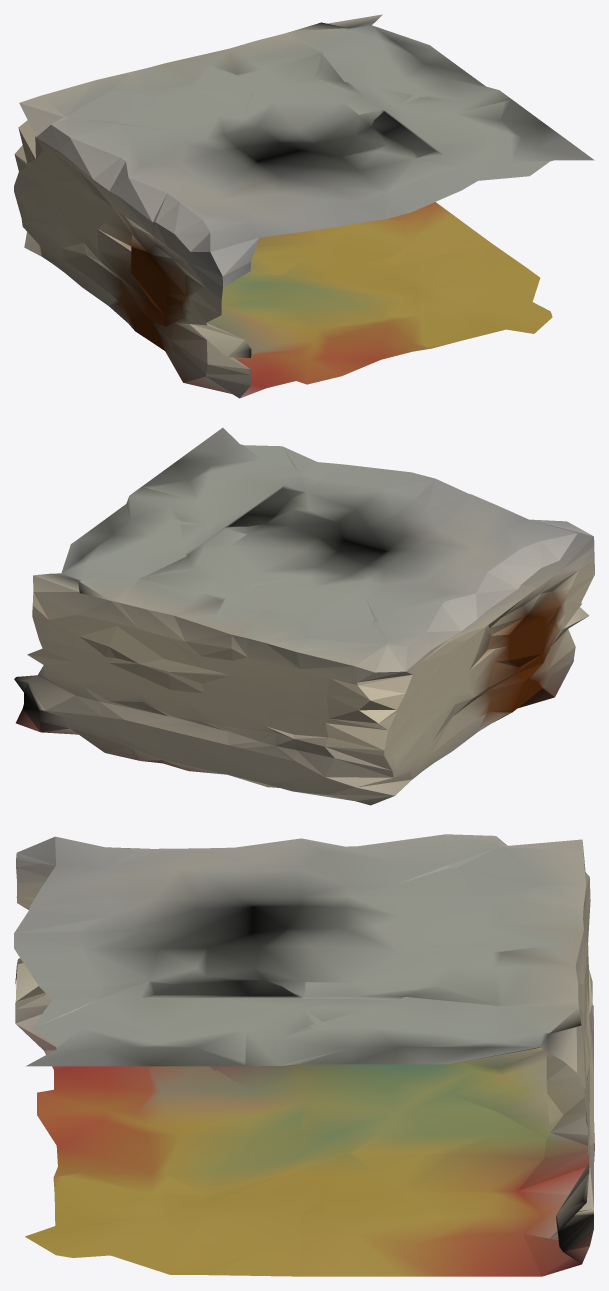
3 renders of one model, top to bottom at view 1: azimuth 30°, elevation 25°; view 2: azimuth 150°, elevation 25°; view 3: azimuth 270°, elevation 25°, orthographic. The views are drawn at different scales.
Bounding box in the file's own units: 8 × 3.2 × 8.
